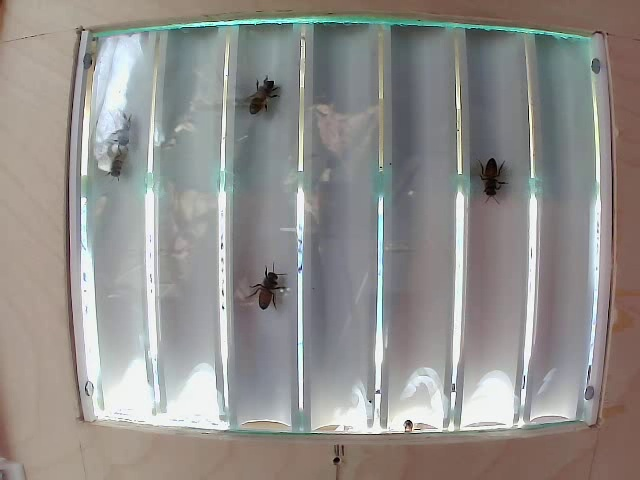bee: (240, 57, 294, 120), (243, 253, 292, 319), (99, 128, 137, 190), (474, 158, 513, 205)
